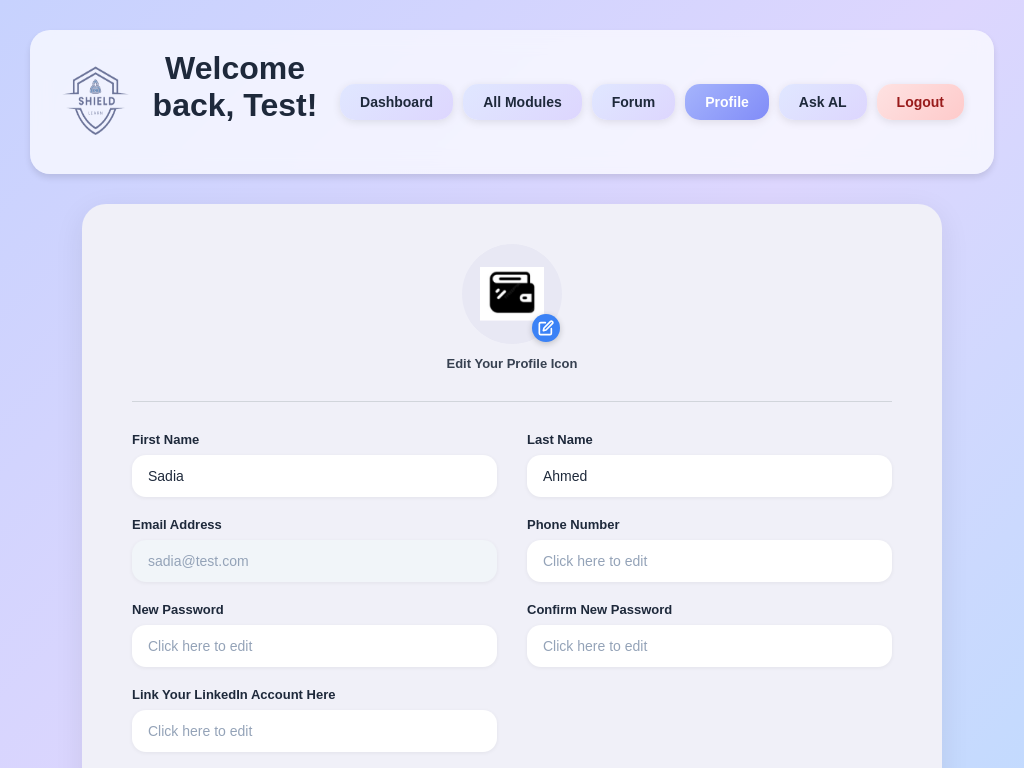
Scenario: User Avatar Customisation › closes the modal and updates the icon when one is selected
Click the picture with alt text "Profile icon": {"x": 512, "y": 294} [480,262,544,326]
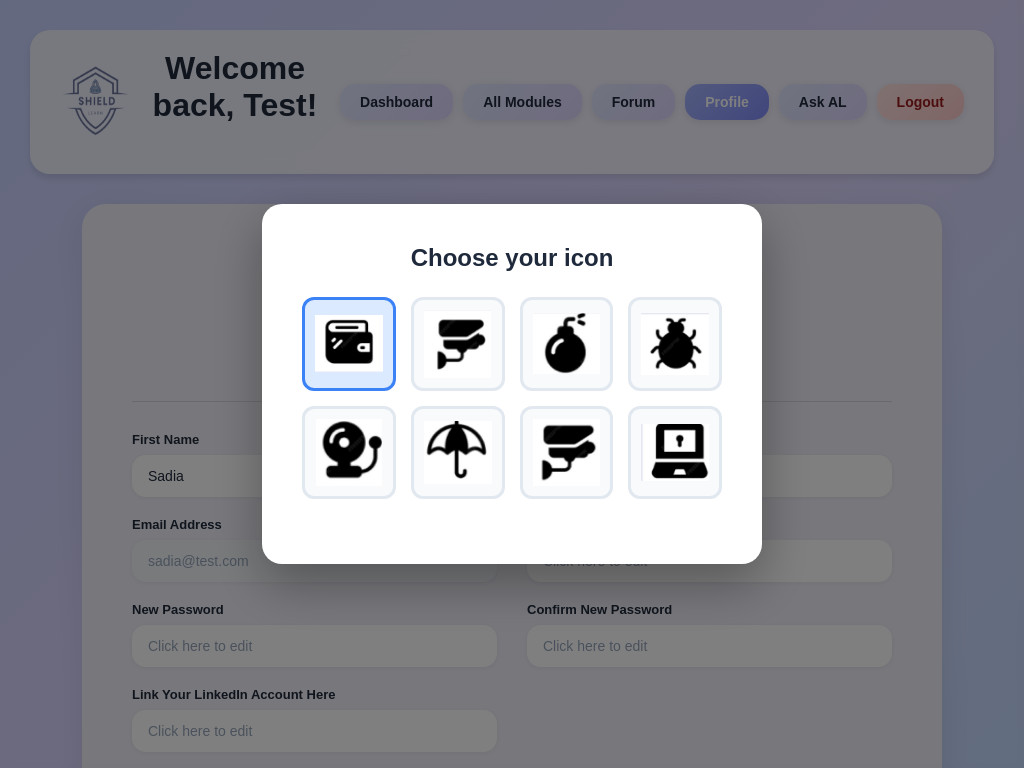
Now the heading "Choose your icon" is shown, box [411,244,613,271]
Pick icon 3 (index 2)
Click the picture with alt text "Icon 3": {"x": 566, "y": 344} [532,310,600,378]
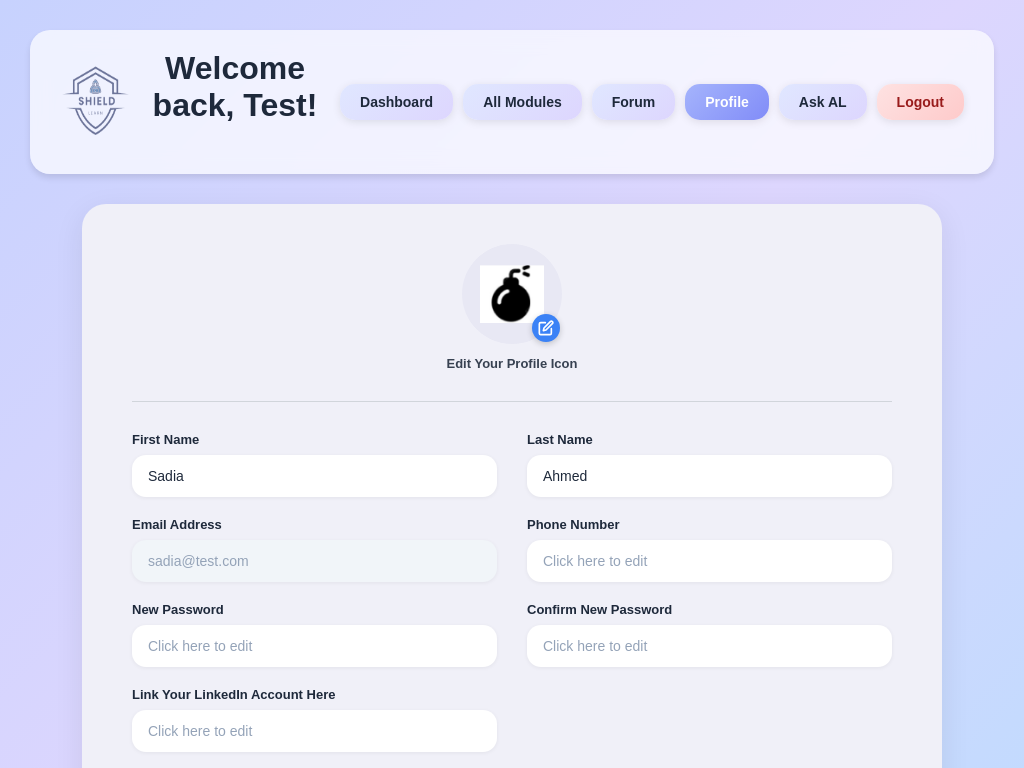
Now the heading "Choose your icon" is gone
